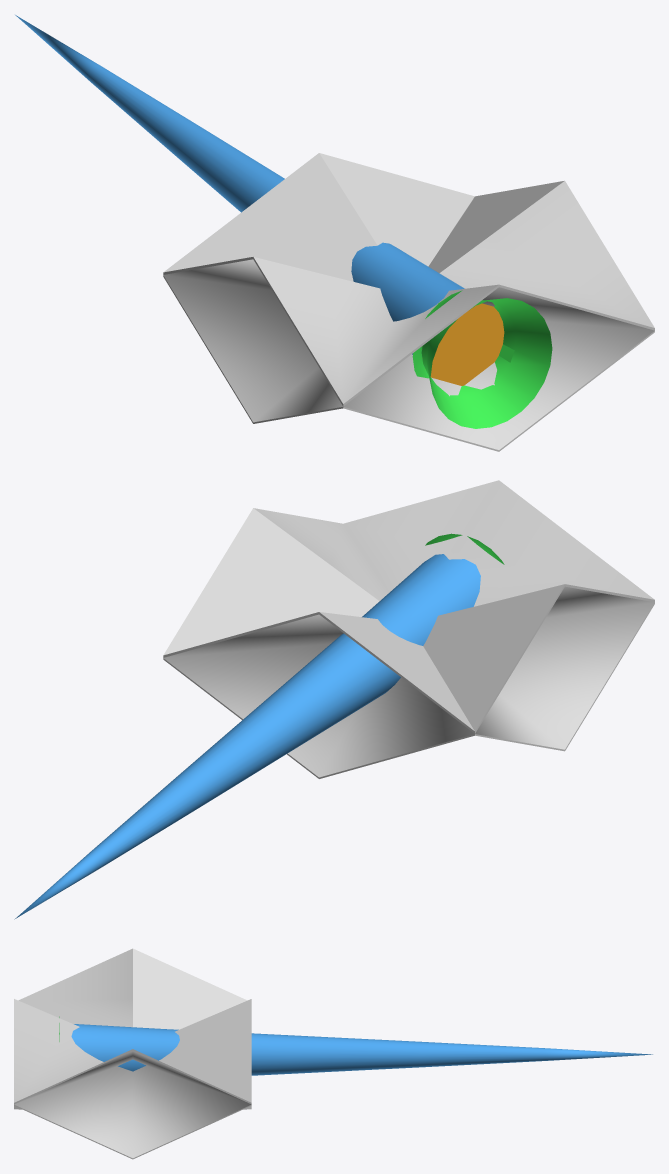
Rendered from Sky01.fbx.
3 views of the same model, one above another, from view 1: azimuth 30°, elevation 25°; view 2: azimuth 150°, elevation 25°; view 3: azimuth 270°, elevation 25° (orthographic). The views are drawn at different scales.
Parts seen in each view (by area): view 1: Box001, Cone001; view 2: Box001, Cone001; view 3: Box001, Cone001.
Boxes of the visible parts, x1,y1,x2,y2 form: Box001: (163, 153, 654, 451); Cone001: (15, 15, 552, 428); Box001: (163, 480, 654, 778); Cone001: (14, 533, 504, 919); Box001: (14, 948, 251, 1159); Cone001: (59, 1016, 652, 1075).
Size of the model in its own units: 300 by 156 by 809.
